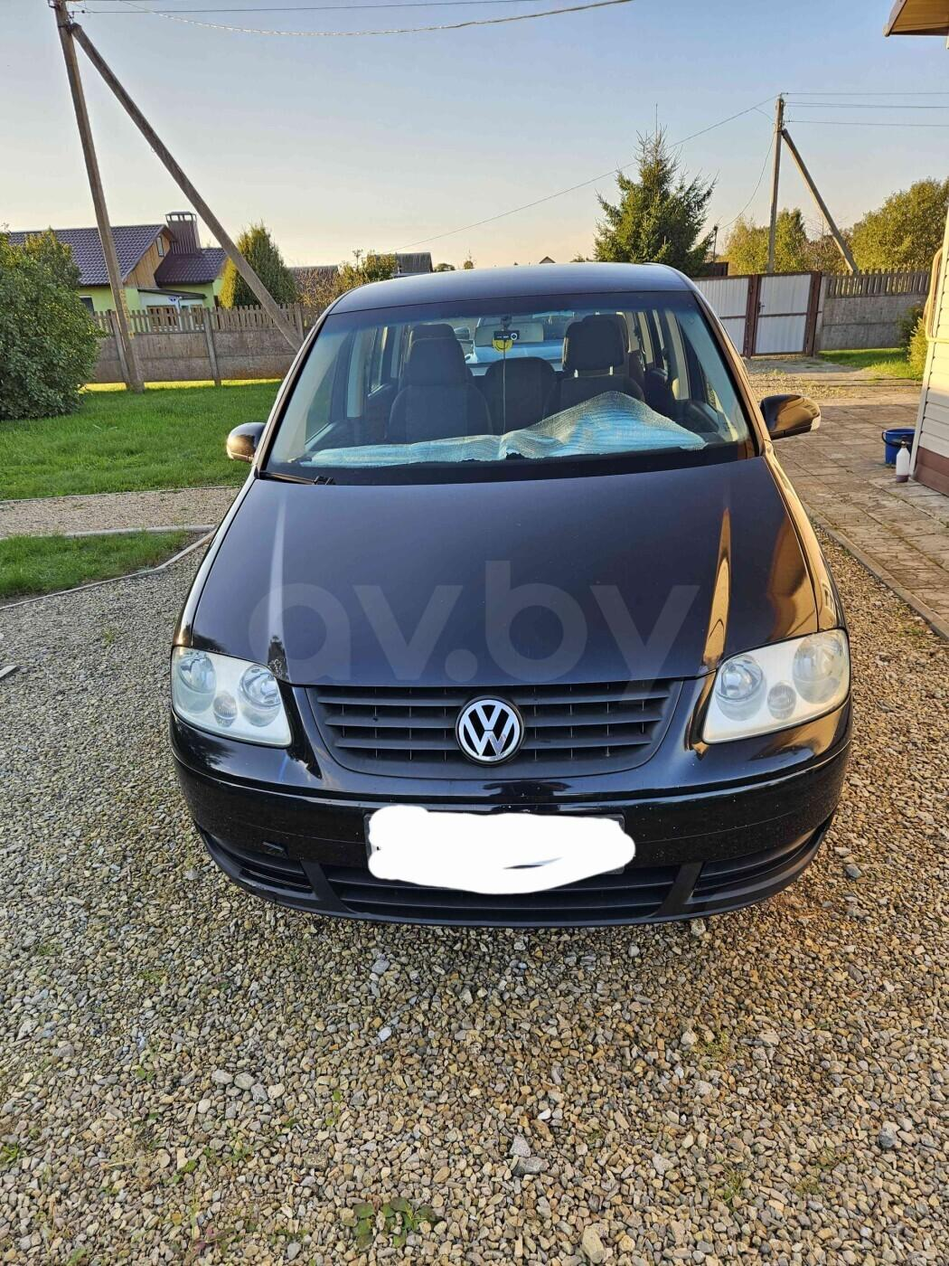Touran_2003-2006: (163, 260, 853, 921)
